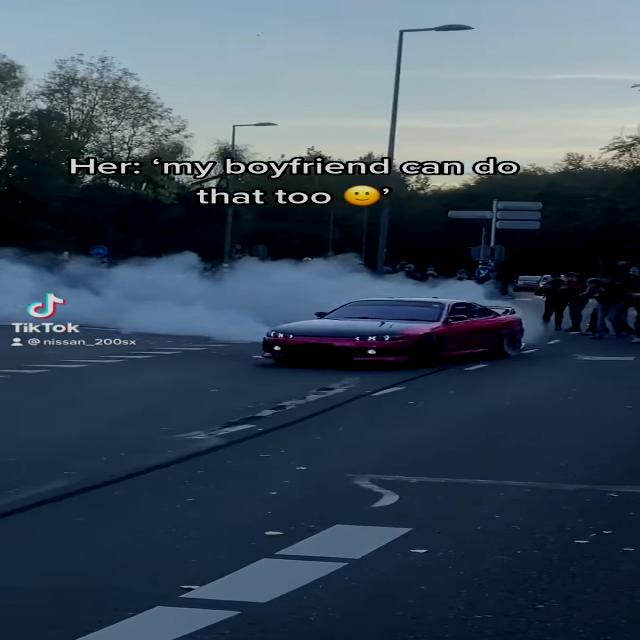car: (262, 295, 524, 369)
